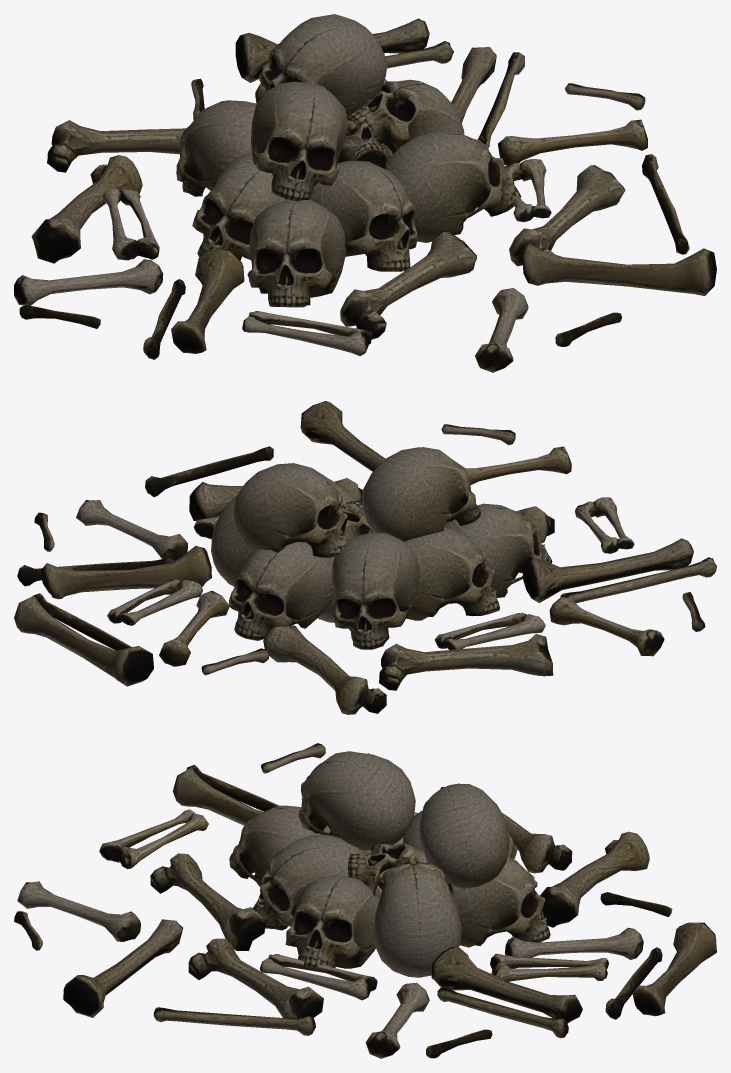
Rendered from debris_bones_03.fbx.
The picture shows the model from 3 angles, top to bottom: view 1: azimuth 30°, elevation 25°; view 2: azimuth 150°, elevation 25°; view 3: azimuth 270°, elevation 25°; orthographic projection. The views are drawn at different scales.
Parts seen in each view (by area): view 1: Skeleton.008; view 2: Skeleton.008; view 3: Skeleton.008.
Part boxes in pixels (bbox=[...]): Skeleton.008: bbox=[14, 14, 716, 372]; Skeleton.008: bbox=[14, 401, 716, 714]; Skeleton.008: bbox=[14, 743, 716, 1058].
Size of the model in its own units: 180 by 46.4 by 175.
Materials: 1 (1 with a texture image).
